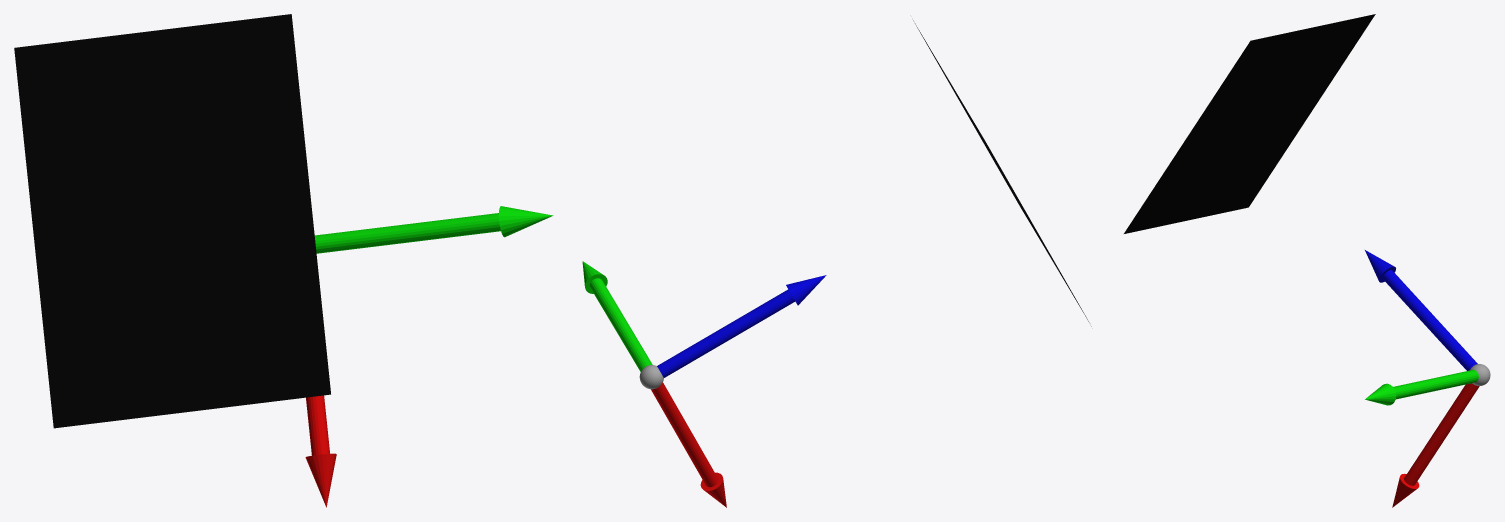
The picture shows the model from 3 angles, left to right: view 1: azimuth 30°, elevation 25°; view 2: azimuth 150°, elevation 25°; view 3: azimuth 270°, elevation 25°; orthographic projection. The views are drawn at different scales.
Size of the model in its own units: 0.3192 by 0.3147 by 0.2488.
